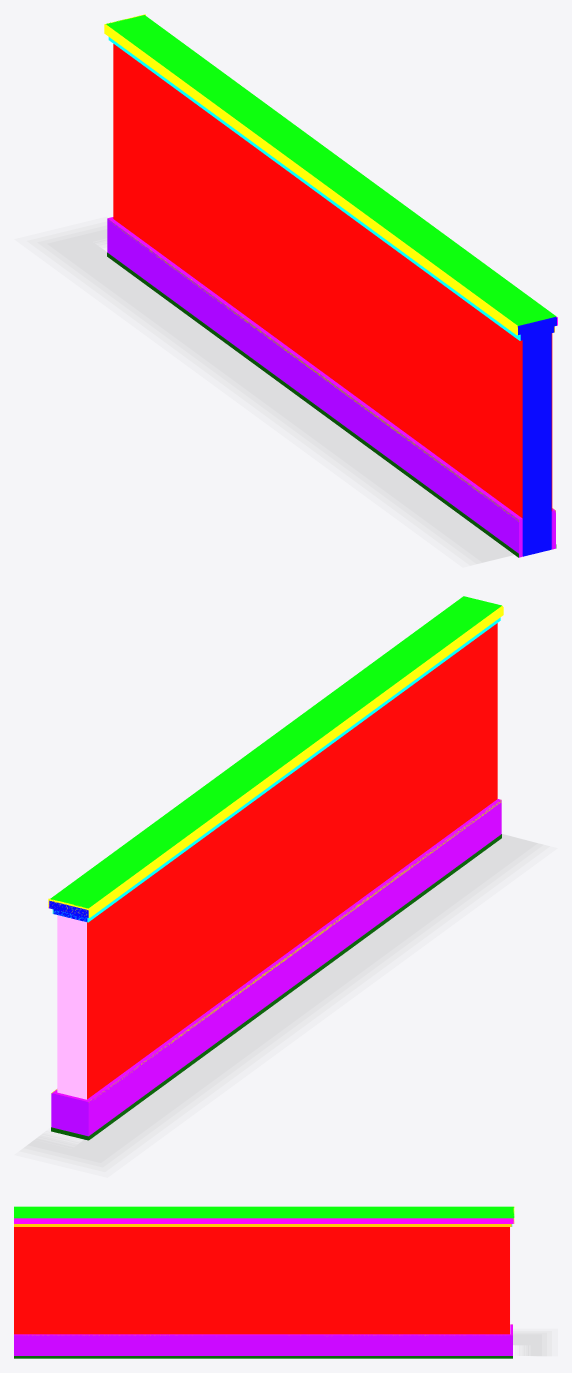
File: kw_probe.glb
The picture shows the model from 3 angles, top to bottom: view 1: azimuth 30°, elevation 25°; view 2: azimuth 150°, elevation 25°; view 3: azimuth 270°, elevation 25°; orthographic projection. The views are drawn at different scales.
Visible parts, largest first — view 1: root; view 2: root; view 3: root.
Part boxes in pixels (box(x1,y1,x2,y2)): root: box(104, 14, 557, 557); root: box(48, 596, 503, 1140); root: box(14, 1206, 514, 1358).
Bounding box in the file's own units: 0.4139 × 0.9632 × 3.38.
